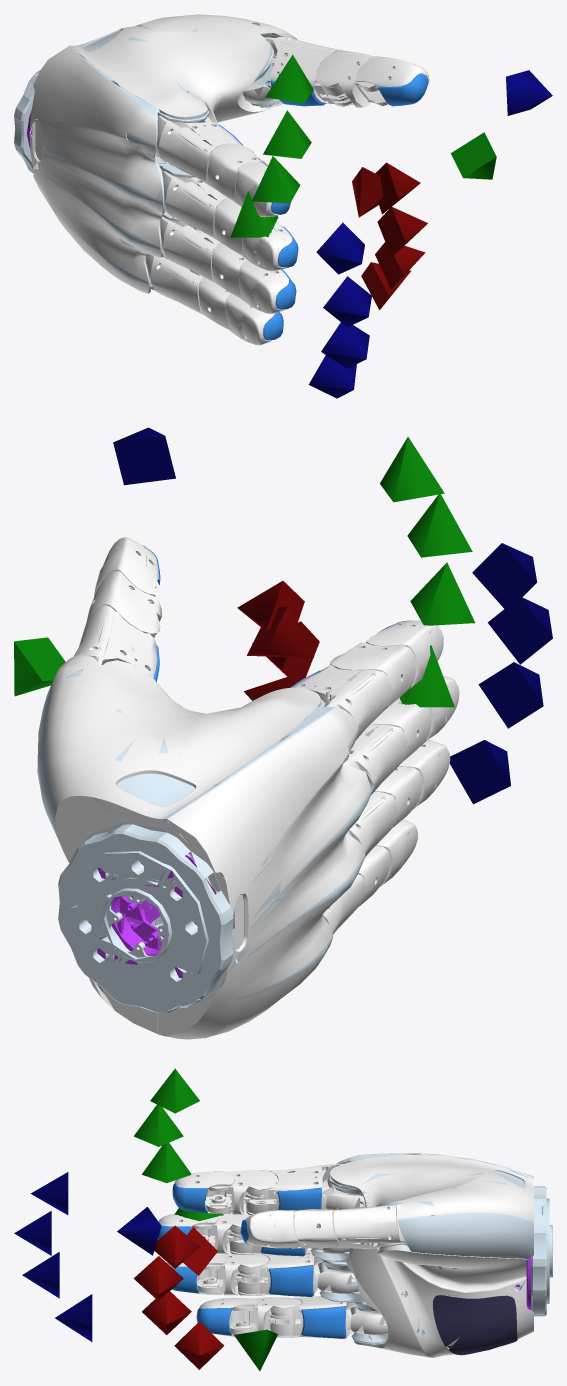
The model's file is hit-hand-2-right.dae.
3 views of the same model, one above another, from view 1: azimuth 30°, elevation 25°; view 2: azimuth 150°, elevation 25°; view 3: azimuth 270°, elevation 25° (orthographic). The views are drawn at different scales.
Parts seen in each view (by area): view 1: IndexedTriangleStripSet_8, IndexedTriangleStripSet_73, IndexedTriangleStripSet_138, IndexedTriangleStripSet_6, IndexedTriangleStripSet_29, IndexedTriangleStripSet_203, IndexedTriangleStripSet_39, IndexedTriangleStripSet_17, IndexedTriangleStripSet_71, IndexedTriangleStripSet_49, Cone_28, IndexedTriangleStripSet_59 (+39 smaller); view 2: IndexedTriangleStripSet_8, IndexedTriangleStripSet_73, IndexedTriangleStripSet_6, IndexedTriangleStripSet_71, IndexedTriangleStripSet_138, IndexedTriangleStripSet_136, IndexedTriangleStripSet_203, IndexedTriangleStripSet_17, IndexedTriangleStripSet_29, Cone_38, Cone_26, Cone_14 (+33 smaller); view 3: IndexedTriangleStripSet_8, IndexedTriangleStripSet_6, IndexedTriangleStripSet_73, IndexedTriangleStripSet_71, IndexedTriangleStripSet_138, IndexedTriangleStripSet_2, IndexedTriangleStripSet_17, IndexedTriangleStripSet_29, IndexedTriangleStripSet_136, IndexedTriangleStripSet_45, IndexedTriangleStripSet_25, IndexedTriangleStripSet_49 (+51 smaller).
Part boxes in pixels (x1=…): IndexedTriangleStripSet_8: x1=29, y1=14, x2=296, y2=293; IndexedTriangleStripSet_73: x1=30, y1=15, x2=294, y2=292; IndexedTriangleStripSet_138: x1=30, y1=16, x2=281, y2=289; IndexedTriangleStripSet_6: x1=14, y1=23, x2=297, y2=293; IndexedTriangleStripSet_29: x1=156, y1=115, x2=241, y2=184; IndexedTriangleStripSet_203: x1=35, y1=19, x2=285, y2=266; IndexedTriangleStripSet_39: x1=162, y1=171, x2=228, y2=238; IndexedTriangleStripSet_17: x1=264, y1=36, x2=362, y2=105; IndexedTriangleStripSet_71: x1=14, y1=24, x2=279, y2=291; IndexedTriangleStripSet_49: x1=160, y1=216, x2=220, y2=281; Cone_28: x1=323, y1=276, x2=371, y2=327; IndexedTriangleStripSet_59: x1=146, y1=254, x2=203, y2=314; IndexedTriangleStripSet_8: x1=47, y1=654, x2=372, y2=1039; IndexedTriangleStripSet_73: x1=47, y1=657, x2=373, y2=1036; IndexedTriangleStripSet_6: x1=37, y1=669, x2=374, y2=1030; IndexedTriangleStripSet_71: x1=39, y1=668, x2=373, y2=1013; IndexedTriangleStripSet_138: x1=48, y1=663, x2=362, y2=1037; IndexedTriangleStripSet_136: x1=38, y1=671, x2=374, y2=1008; IndexedTriangleStripSet_203: x1=49, y1=662, x2=356, y2=1036; IndexedTriangleStripSet_17: x1=74, y1=605, x2=157, y2=678; IndexedTriangleStripSet_29: x1=293, y1=664, x2=390, y2=739; Cone_38: x1=410, y1=562, x2=474, y2=625; Cone_26: x1=407, y1=494, x2=472, y2=557; Cone_14: x1=380, y1=437, x2=444, y2=502; IndexedTriangleStripSet_8: x1=330, y1=1155, x2=533, y2=1357; IndexedTriangleStripSet_6: x1=311, y1=1153, x2=552, y2=1347; IndexedTriangleStripSet_73: x1=346, y1=1153, x2=533, y2=1357; IndexedTriangleStripSet_71: x1=311, y1=1153, x2=552, y2=1347; IndexedTriangleStripSet_138: x1=331, y1=1153, x2=533, y2=1357; IndexedTriangleStripSet_2: x1=433, y1=1295, x2=517, y2=1354; IndexedTriangleStripSet_17: x1=332, y1=1204, x2=405, y2=1248; IndexedTriangleStripSet_29: x1=244, y1=1164, x2=347, y2=1213; IndexedTriangleStripSet_136: x1=319, y1=1153, x2=552, y2=1346; IndexedTriangleStripSet_45: x1=197, y1=1254, x2=268, y2=1295; IndexedTriangleStripSet_25: x1=205, y1=1170, x2=277, y2=1215; IndexedTriangleStripSet_49: x1=235, y1=1250, x2=341, y2=1296.
Size of the model in its own units: 0.1945 by 0.1848 by 0.3212.
